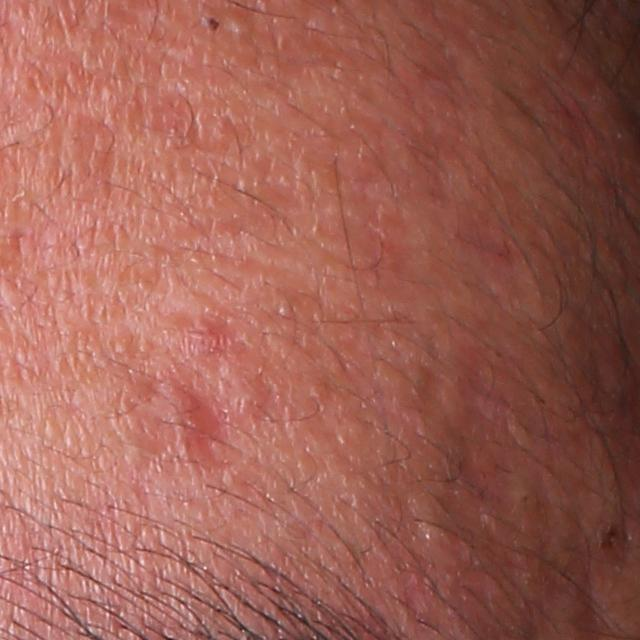comedo: (217, 8, 244, 39), (201, 9, 222, 35)
papule: (142, 381, 216, 448)
